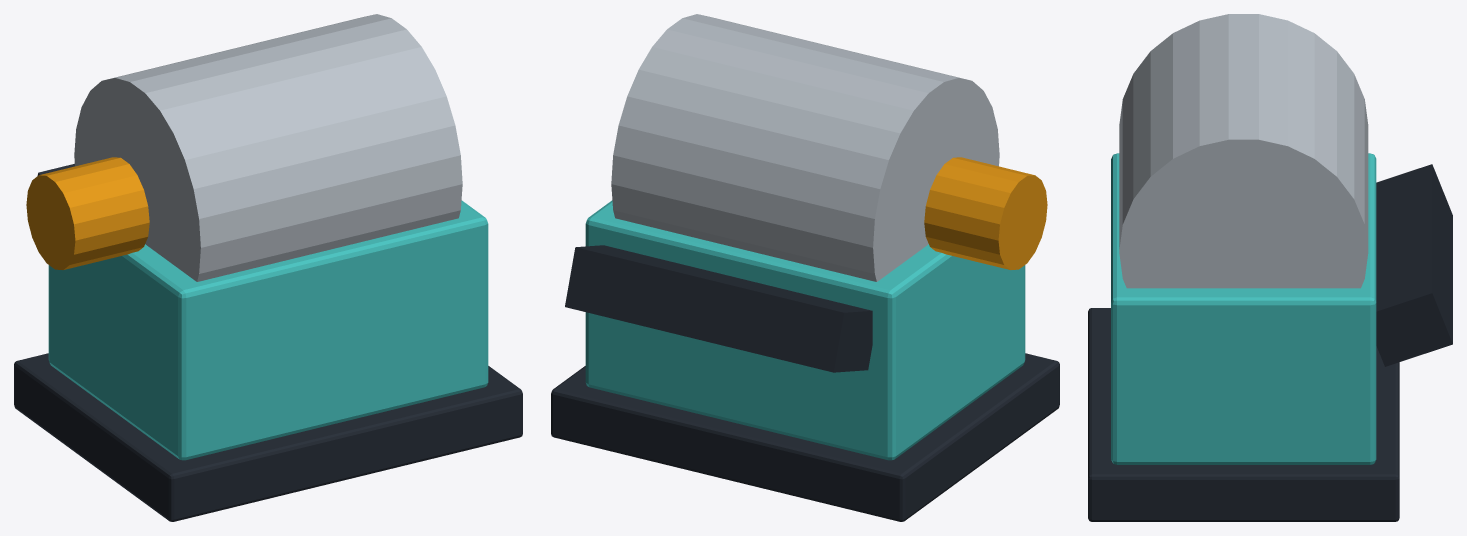
File: magnetic_separator_ms301.glb
The picture shows the model from 3 angles, left to right: view 1: azimuth 30°, elevation 25°; view 2: azimuth 150°, elevation 25°; view 3: azimuth 270°, elevation 25°; orthographic projection.
Parts seen in each view (by area): view 1: MS301_TankBox, MS301_WetDrum, MS301_Base, MS301_DriveMotor; view 2: MS301_WetDrum, MS301_TankBox, MS301_Base, MS301_DischargeChute, MS301_DriveMotor; view 3: MS301_WetDrum, MS301_TankBox, MS301_Base, MS301_DischargeChute.
Boxes of the visible parts, x1,y1,x2,y2 form: MS301_TankBox: (48, 200, 488, 460); MS301_WetDrum: (74, 14, 462, 281); MS301_Base: (14, 353, 522, 521); MS301_DriveMotor: (26, 157, 149, 269); MS301_WetDrum: (611, 14, 999, 281); MS301_TankBox: (585, 200, 1025, 460); MS301_Base: (551, 353, 1059, 521); MS301_DischargeChute: (565, 245, 872, 372); MS301_DriveMotor: (924, 157, 1047, 269); MS301_WetDrum: (1119, 14, 1368, 288); MS301_TankBox: (1111, 153, 1376, 464); MS301_Base: (1088, 308, 1399, 521); MS301_DischargeChute: (1376, 164, 1452, 366).
Size of the model in its own units: 2.23 by 1.99 by 1.82.
